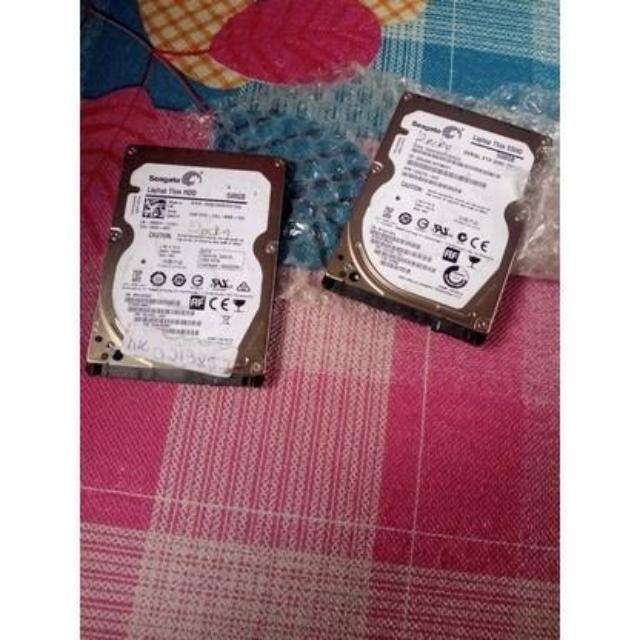DISK: (322, 86, 553, 346), (76, 136, 287, 387)
